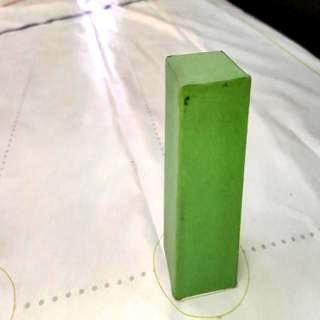greenbox: (162, 49, 254, 300)
